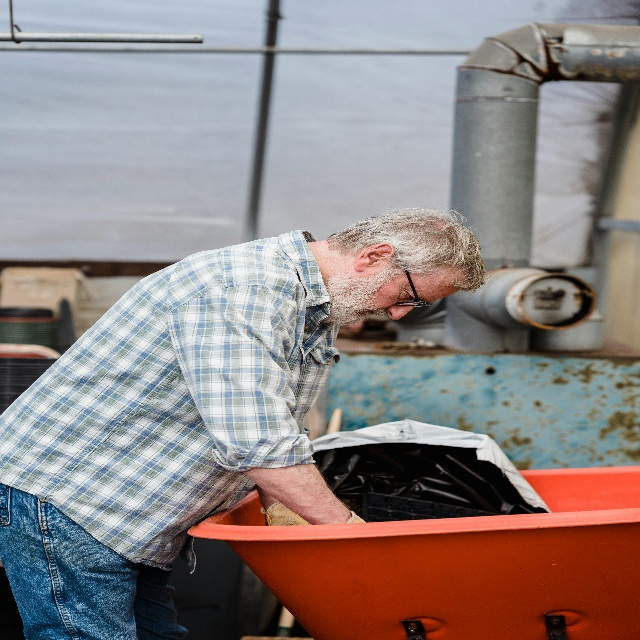Gafas: (393, 247, 430, 311)
